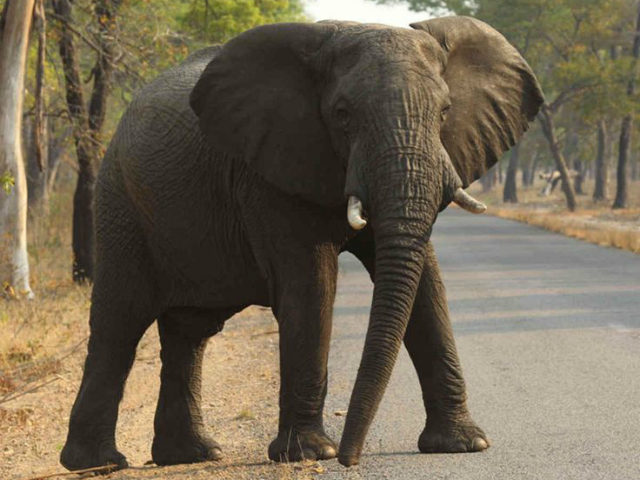elephant: (53, 10, 545, 477)
